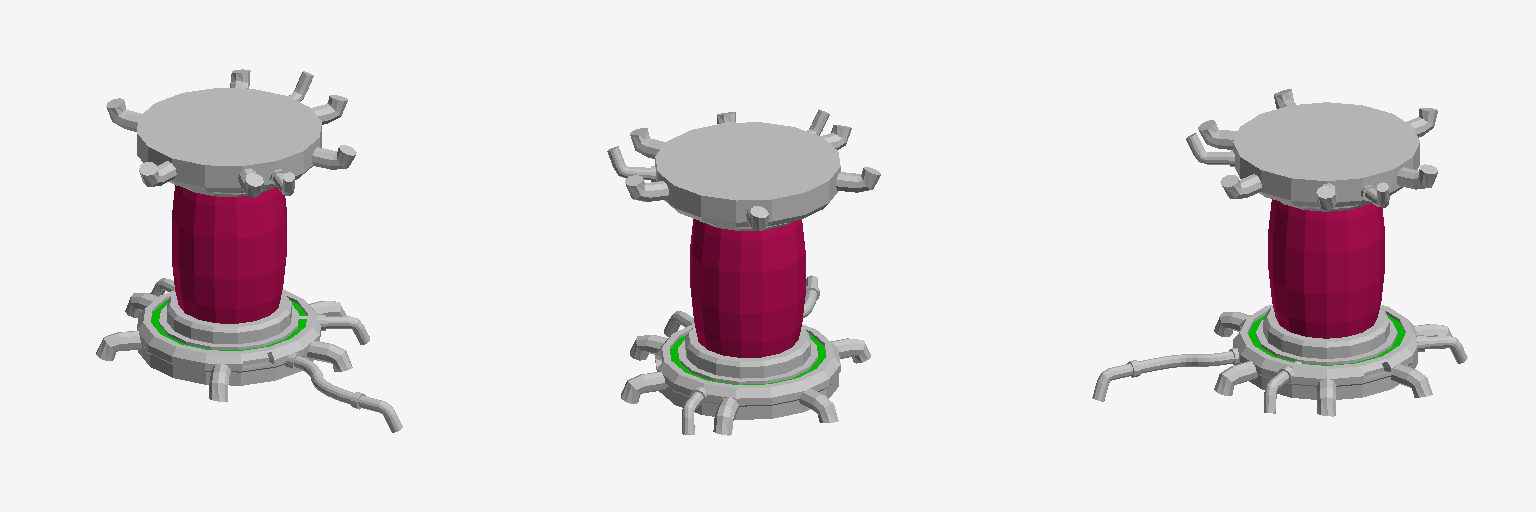
File: Reactor.obj
3 renders of one model, left to right at view 1: azimuth 30°, elevation 25°; view 2: azimuth 150°, elevation 25°; view 3: azimuth 270°, elevation 25°, orthographic.
Visible parts, largest first — view 1: ReactorGlass_Cylinder.003; view 2: ReactorGlass_Cylinder.003; view 3: ReactorGlass_Cylinder.003.
Part boxes in pixels (x1,y1,x2,y2): ReactorGlass_Cylinder.003: (96,69,402,432); ReactorGlass_Cylinder.003: (607,109,880,435); ReactorGlass_Cylinder.003: (1092,89,1467,416).
Bounding box in the file's own units: 4.52 × 4.61 × 6.45.